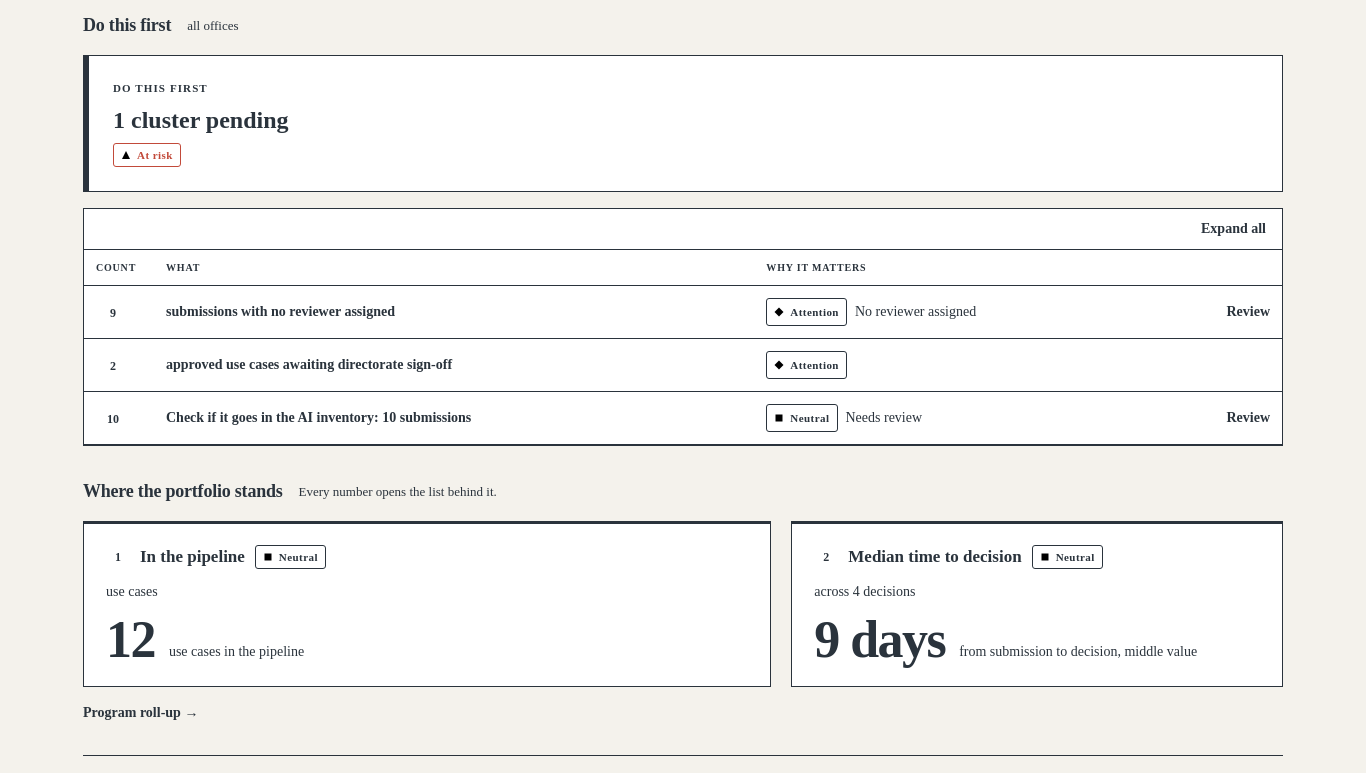
Test: CockpitHome rows and panels (NL-12, #313) › a row opens only when it has a list of ideas behind its count, and that list links to each idea
Click the row that starts with "submissions with no reviewer assigned".
click(683, 312)  # box [84,286,1282,338]
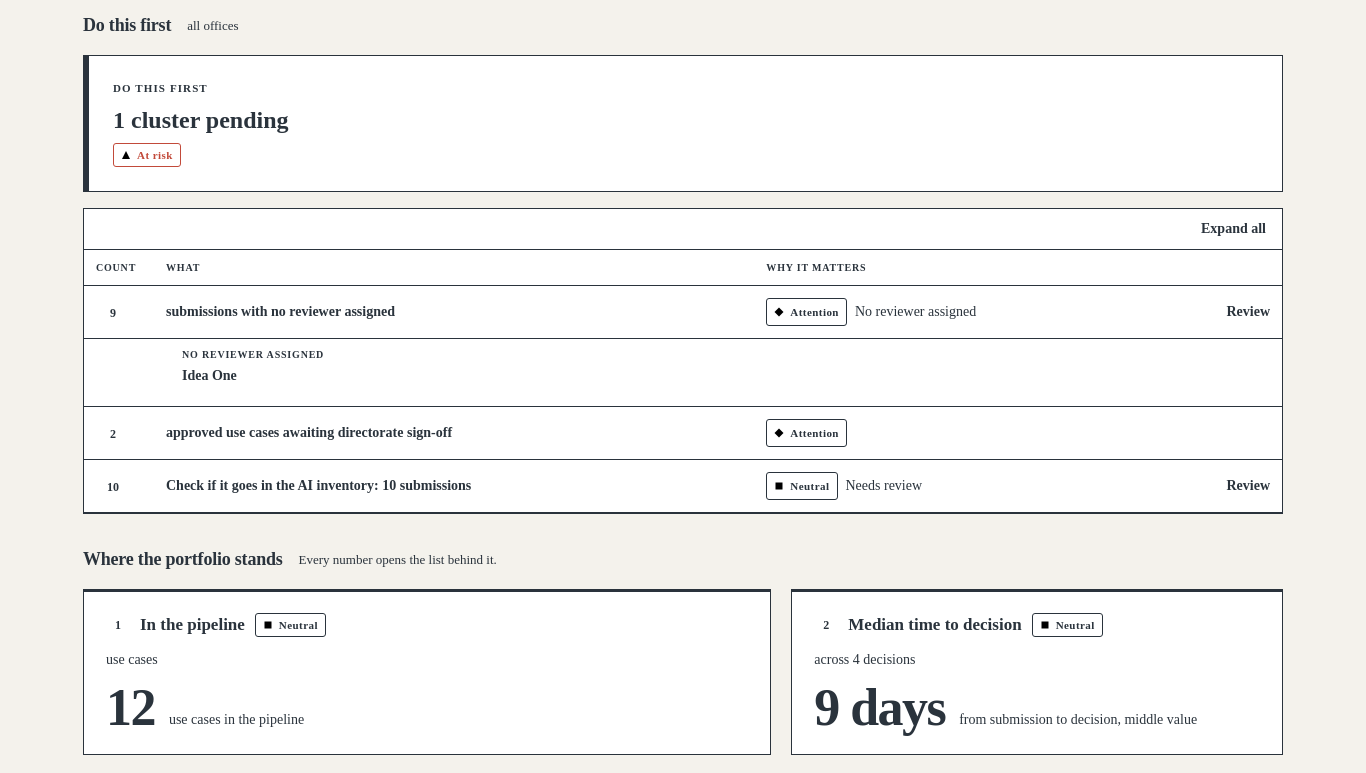
Check: the text "9 submissions with no reviewer assigned" is not shown
Check: the link to "/submissions/s1" reads "Idea One", box [182,368,237,383]
